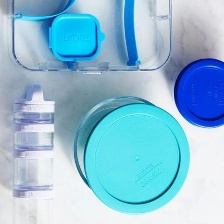plastic_box: (64, 89, 195, 219), (167, 54, 223, 134)
